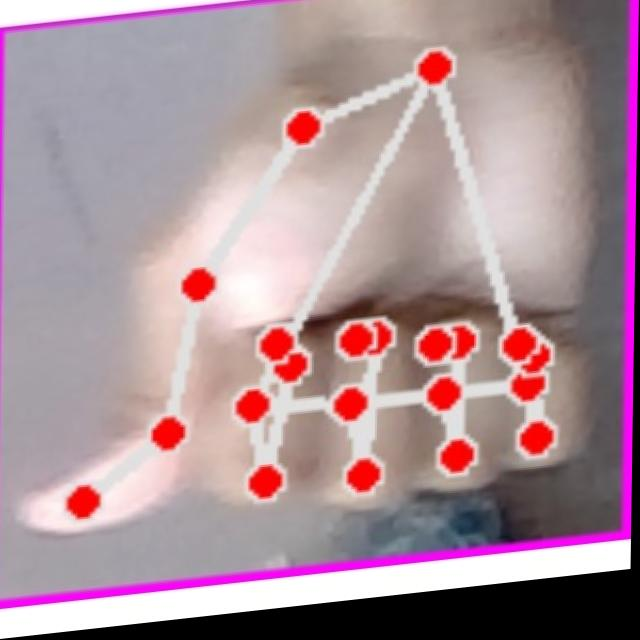A: (12, 9, 613, 582)
